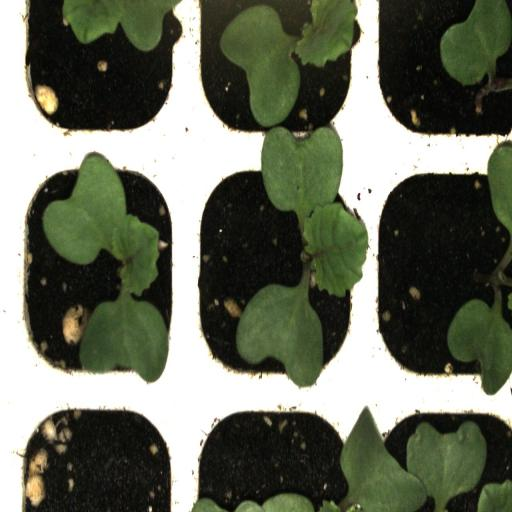Folha: (235, 411, 512, 512), (62, 0, 180, 53), (447, 299, 512, 395), (487, 142, 512, 232)
Germinacao: (186, 150, 373, 386), (12, 152, 188, 392), (374, 149, 512, 391), (185, 0, 369, 151)
